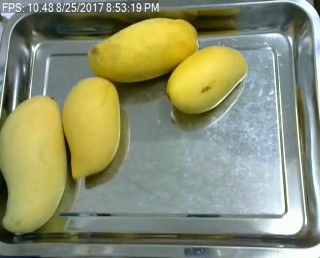Mango: (0, 95, 67, 234), (84, 13, 197, 83), (61, 76, 123, 179), (166, 43, 250, 114)
